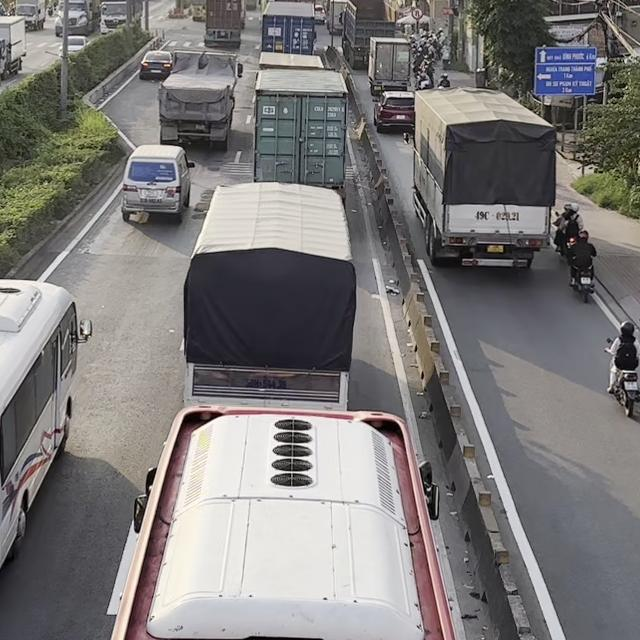bus: (109, 403, 460, 639), (0, 276, 92, 589)
car: (120, 143, 195, 224), (373, 90, 415, 132), (139, 49, 173, 80)
motorcycle: (603, 337, 639, 418), (552, 210, 576, 259), (568, 266, 595, 303)
truck: (180, 180, 357, 409), (410, 85, 557, 269), (251, 67, 348, 191), (157, 50, 244, 151), (339, 0, 397, 70), (260, 0, 317, 55), (367, 35, 411, 96), (203, 0, 245, 47)
